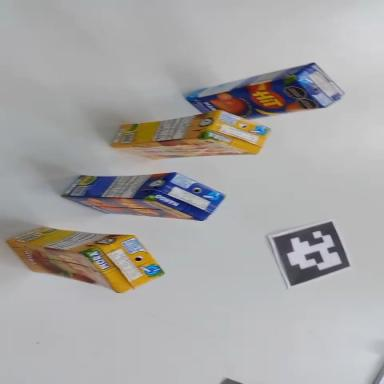HIT-MANGO: (184, 58, 345, 129), (61, 168, 226, 221)
HIT-MORA: (4, 224, 166, 296), (109, 108, 270, 161)
cara_F: (187, 72, 324, 130), (1, 241, 123, 293), (112, 135, 255, 161), (61, 196, 203, 221)
